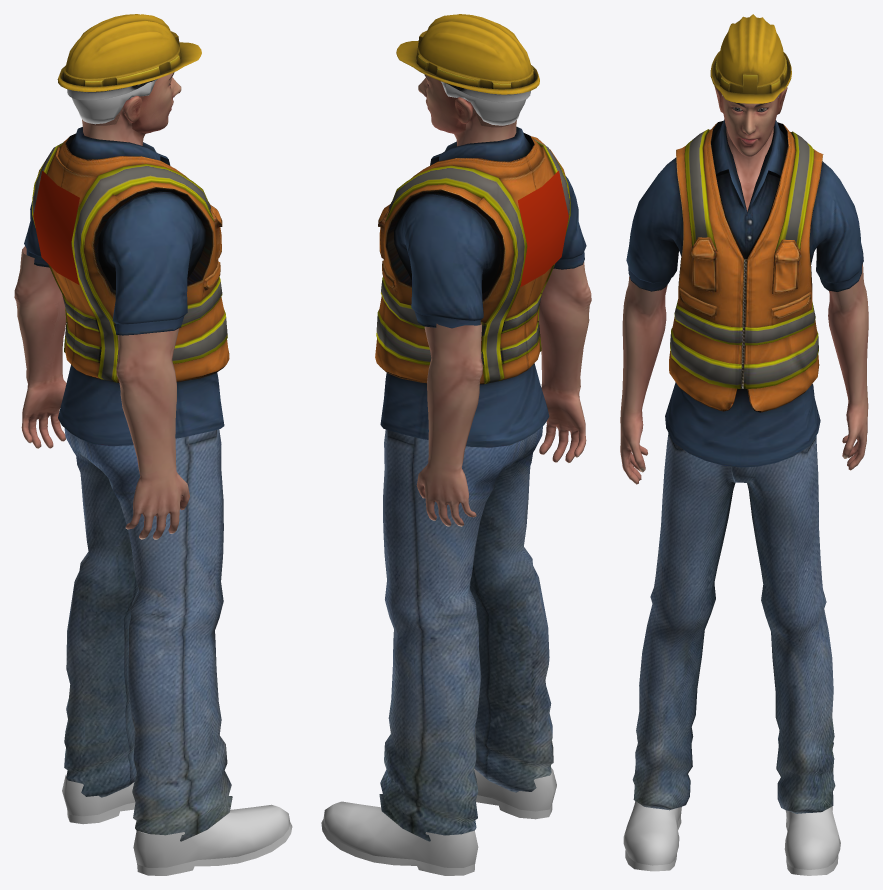
The model's file is man.obj.
3 renders of one model, left to right at view 1: azimuth 30°, elevation 25°; view 2: azimuth 150°, elevation 25°; view 3: azimuth 270°, elevation 25°, orthographic. The views are drawn at different scales.
Visible parts, largest first — view 1: CH_M_L1_ConstrucJean01, CH_M_T3_Construct01_CH_A_T3_Construct01, polySurface2, CH_A_F1_Suit02, CH_A_G1_Hardhat01, polySurface1, logo_CH_M_T3_Construct02_CH_A_T3_Construct01_LOGO, CH_M_HD_Generic01, CH_A_R1_Sleek01, CH_A_T3_ConstructS_fl; view 2: CH_M_L1_ConstrucJean01, CH_M_T3_Construct01_CH_A_T3_Construct01, polySurface1, CH_A_F1_Suit02, CH_A_G1_Hardhat01, polySurface2, logo_CH_M_T3_Construct02_CH_A_T3_Construct01_LOGO, CH_M_HD_Generic01, CH_A_R1_Sleek01, CH_A_T3_ConstructS_fl; view 3: CH_M_T3_Construct01_CH_A_T3_Construct01, CH_M_L1_ConstrucJean01, CH_A_F1_Suit02, polySurface2, CH_A_G1_Hardhat01, polySurface1, CH_M_HD_Generic01, CH_A_T3_ConstructS_fl.
Part boxes in pixels (bbox=[...]): CH_M_L1_ConstrucJean01: bbox=[64, 428, 232, 841]; CH_M_T3_Construct01_CH_A_T3_Construct01: bbox=[24, 127, 229, 446]; polySurface2: bbox=[116, 328, 189, 539]; CH_A_F1_Suit02: bbox=[62, 774, 292, 875]; CH_A_G1_Hardhat01: bbox=[57, 14, 201, 100]; polySurface1: bbox=[14, 246, 66, 448]; logo_CH_M_T3_Construct02_CH_A_T3_Construct01_LOGO: bbox=[33, 171, 79, 284]; CH_M_HD_Generic01: bbox=[88, 72, 181, 132]; CH_A_R1_Sleek01: bbox=[72, 79, 157, 124]; CH_A_T3_ConstructS_fl: bbox=[82, 106, 148, 145]; CH_M_L1_ConstrucJean01: bbox=[379, 426, 553, 841]; CH_M_T3_Construct01_CH_A_T3_Construct01: bbox=[375, 126, 586, 447]; polySurface1: bbox=[416, 322, 482, 526]; CH_A_F1_Suit02: bbox=[321, 767, 556, 875]; CH_A_G1_Hardhat01: bbox=[396, 14, 539, 102]; polySurface2: bbox=[538, 262, 591, 462]; logo_CH_M_T3_Construct02_CH_A_T3_Construct01_LOGO: bbox=[518, 170, 568, 287]; CH_M_HD_Generic01: bbox=[418, 74, 510, 133]; CH_A_R1_Sleek01: bbox=[441, 81, 526, 125]; CH_A_T3_ConstructS_fl: bbox=[450, 107, 516, 146]; CH_M_T3_Construct01_CH_A_T3_Construct01: bbox=[626, 119, 863, 467]; CH_M_L1_ConstrucJean01: bbox=[632, 433, 835, 813]; CH_A_F1_Suit02: bbox=[623, 801, 840, 875]; polySurface2: bbox=[620, 276, 667, 484]; CH_A_G1_Hardhat01: bbox=[710, 14, 791, 103]; polySurface1: bbox=[828, 264, 868, 470]; CH_M_HD_Generic01: bbox=[714, 86, 787, 156]; CH_A_T3_ConstructS_fl: bbox=[726, 128, 773, 211].
Size of the model in its own units: 7.32 by 28.89 by 8.04.
